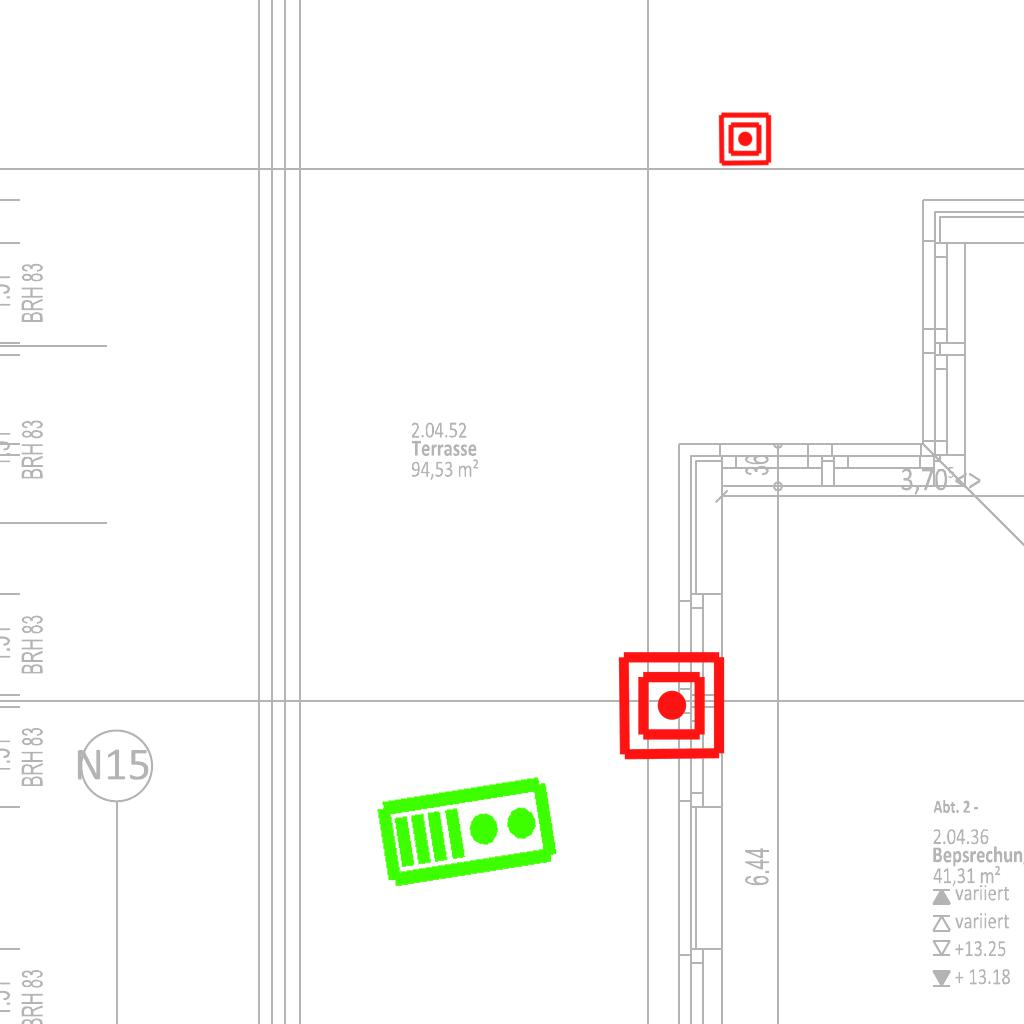Gegensprechanlage_mit_Video: (373, 769, 562, 891)
NAM-Nichtautomatischer_Melder: (615, 649, 728, 762), (717, 111, 773, 167)
